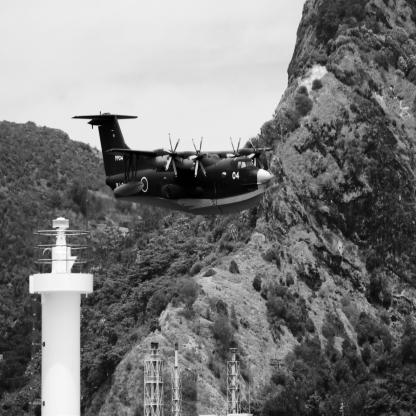US2: (71, 111, 273, 216)
